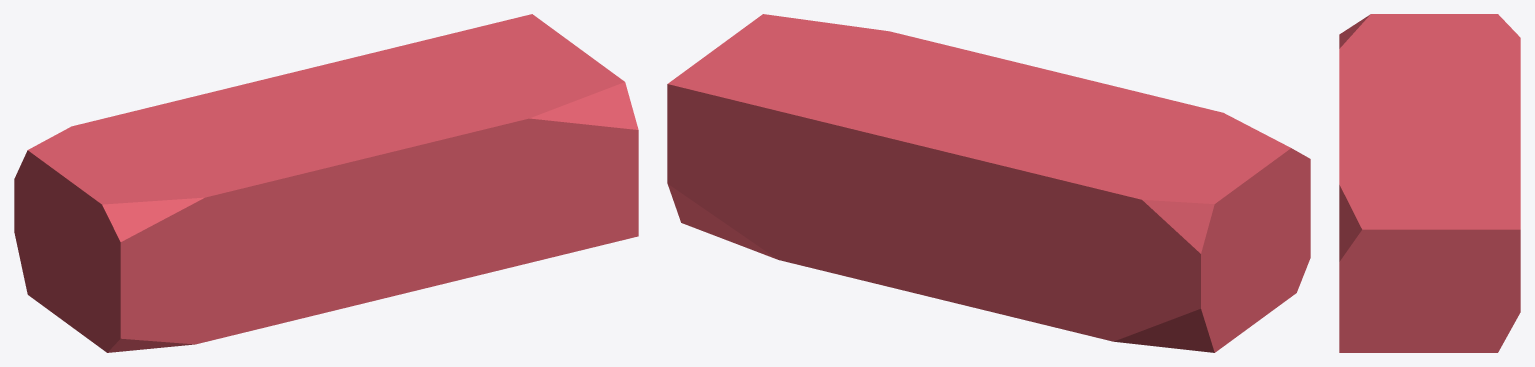
Rendered from decoration-stone-egypt.fbx.
3 renders of one model, left to right at view 1: azimuth 30°, elevation 25°; view 2: azimuth 150°, elevation 25°; view 3: azimuth 270°, elevation 25°, orthographic. The views are drawn at different scales.
Parts seen in each view (by area): view 1: decoration-stone-egypt; view 2: decoration-stone-egypt; view 3: decoration-stone-egypt.
Part boxes in pixels (box(x1,y1,x2,y2)): decoration-stone-egypt: box(14, 14, 638, 352); decoration-stone-egypt: box(667, 14, 1310, 352); decoration-stone-egypt: box(1339, 14, 1520, 352).
Bounding box in the file's own units: 9 × 2.4 × 3.2.
